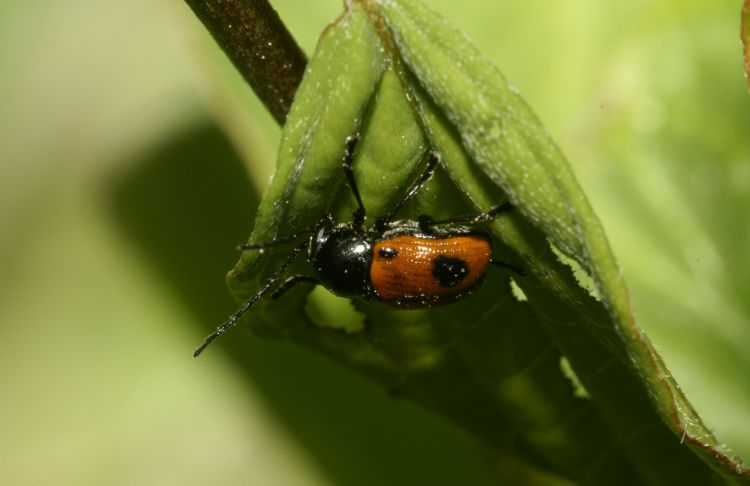Cryptocephalus_bipunctatus: (186, 131, 513, 378)
